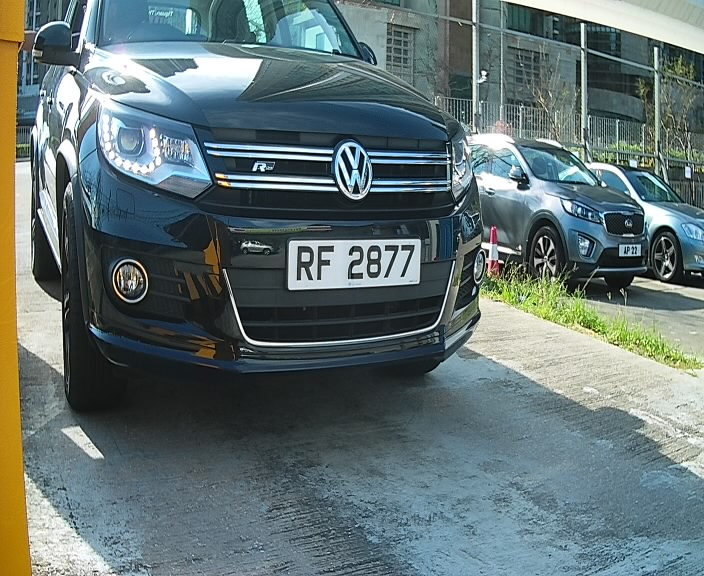Car: (18, 2, 504, 418)
License Plate: (273, 227, 430, 299)
